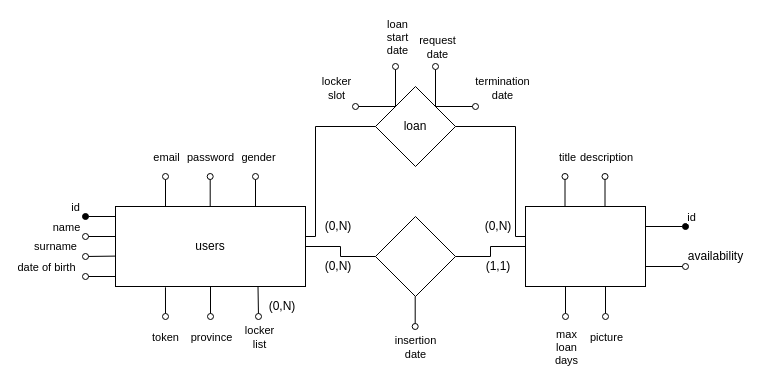
This 773x384 diagram has some shape labels left out. Here are the shapes that lost their labels. From the top down, the box of each, then its label:
(374, 216, 456, 296): insertion
(524, 206, 646, 286): products
